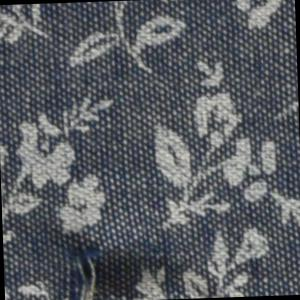Damage: (48, 224, 130, 300)
